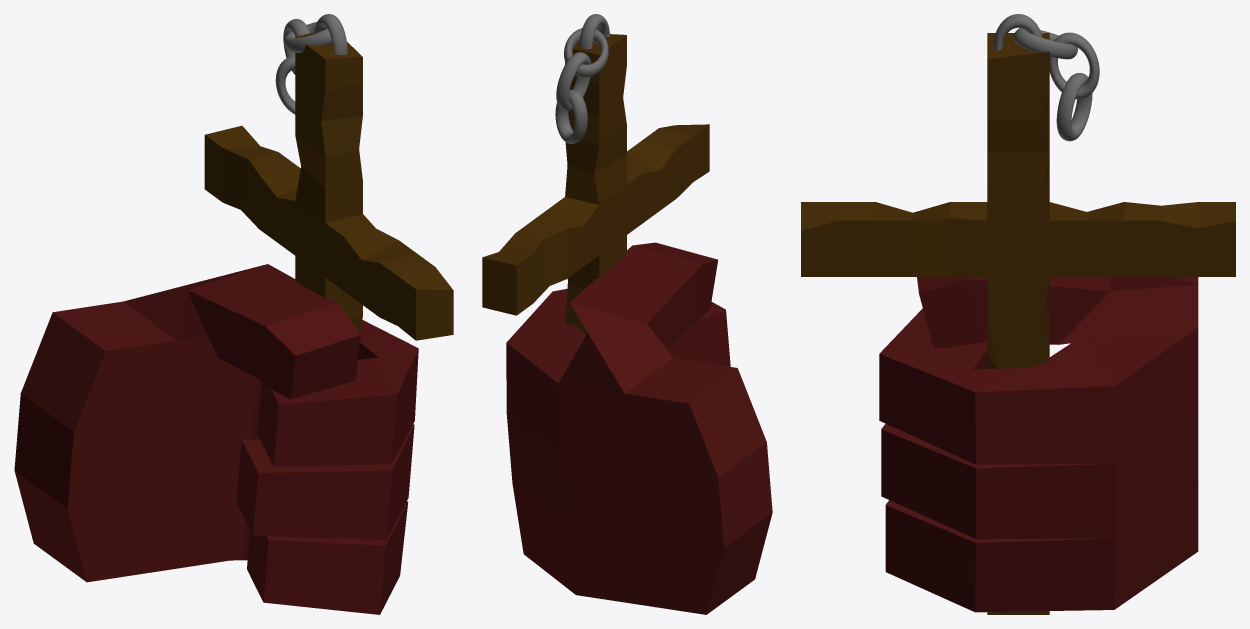
Rendered from Left Hand Cross.fbx.
3 renders of one model, left to right at view 1: azimuth 30°, elevation 25°; view 2: azimuth 150°, elevation 25°; view 3: azimuth 270°, elevation 25°, orthographic. The views are drawn at different scales.
Visible parts, largest first — view 1: Cube.012, Cube.014, BezierCircle.001, BezierCircle, BezierCircle.003; view 2: Cube.012, Cube.014, BezierCircle.003, BezierCircle.002, BezierCircle.001, BezierCircle; view 3: Cube.012, Cube.014, BezierCircle.003, BezierCircle.002, BezierCircle.001, BezierCircle.
Part boxes in pixels (x1,y1,x2,y2): Cube.012: [14, 264, 418, 614]; Cube.014: [204, 32, 453, 340]; BezierCircle.001: [284, 22, 332, 52]; BezierCircle: [314, 14, 347, 54]; BezierCircle.003: [275, 55, 295, 114]; Cube.012: [506, 242, 772, 614]; Cube.014: [482, 34, 709, 334]; BezierCircle.003: [555, 89, 587, 143]; BezierCircle.002: [556, 52, 591, 110]; BezierCircle.001: [564, 28, 608, 77]; BezierCircle: [579, 14, 609, 49]; Cube.012: [879, 277, 1198, 612]; Cube.014: [801, 33, 1235, 614]; BezierCircle.003: [1056, 73, 1092, 141]; BezierCircle.002: [1049, 32, 1099, 99]; BezierCircle.001: [1014, 28, 1077, 59]; BezierCircle: [993, 14, 1042, 50].
Size of the model in its own units: 56.63 by 105 by 70.
